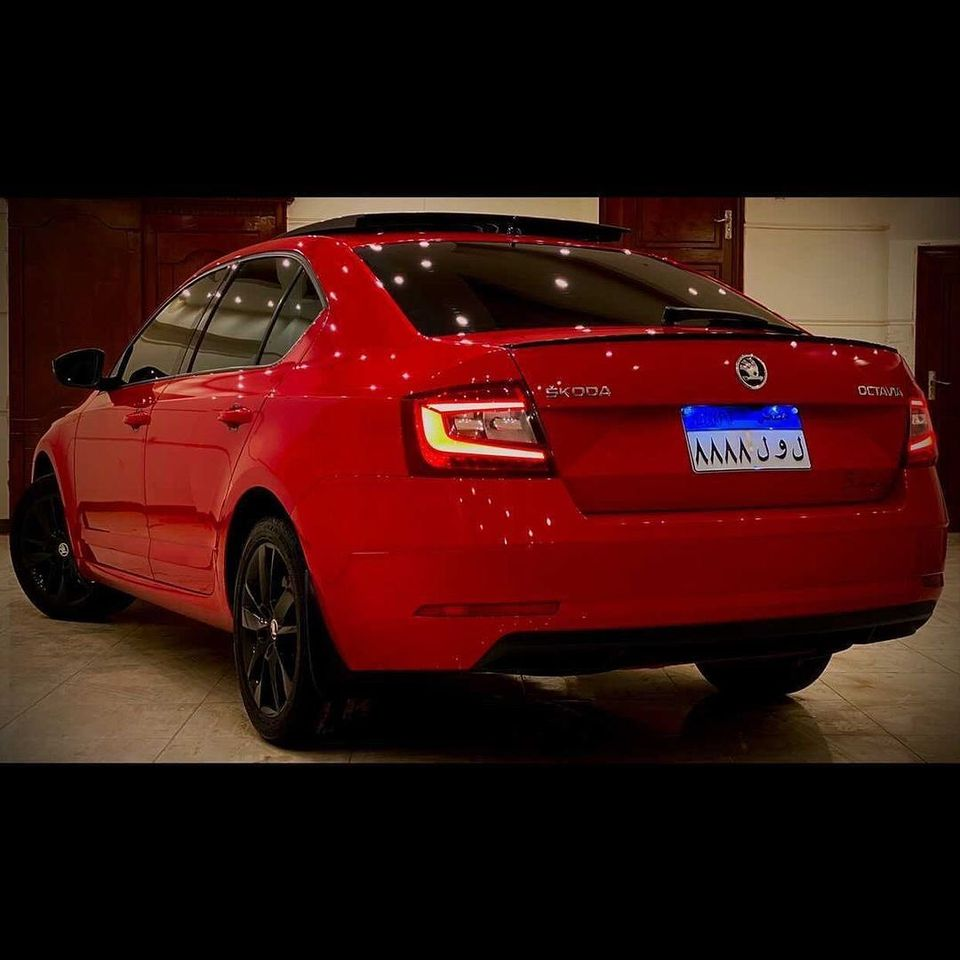carpl: (692, 403, 809, 469)
